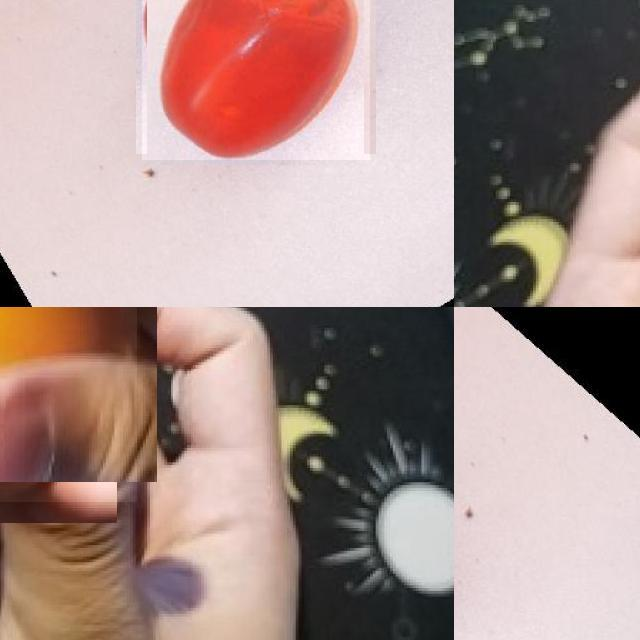Rotten Tomato: (141, 0, 370, 159), (0, 307, 137, 502)
